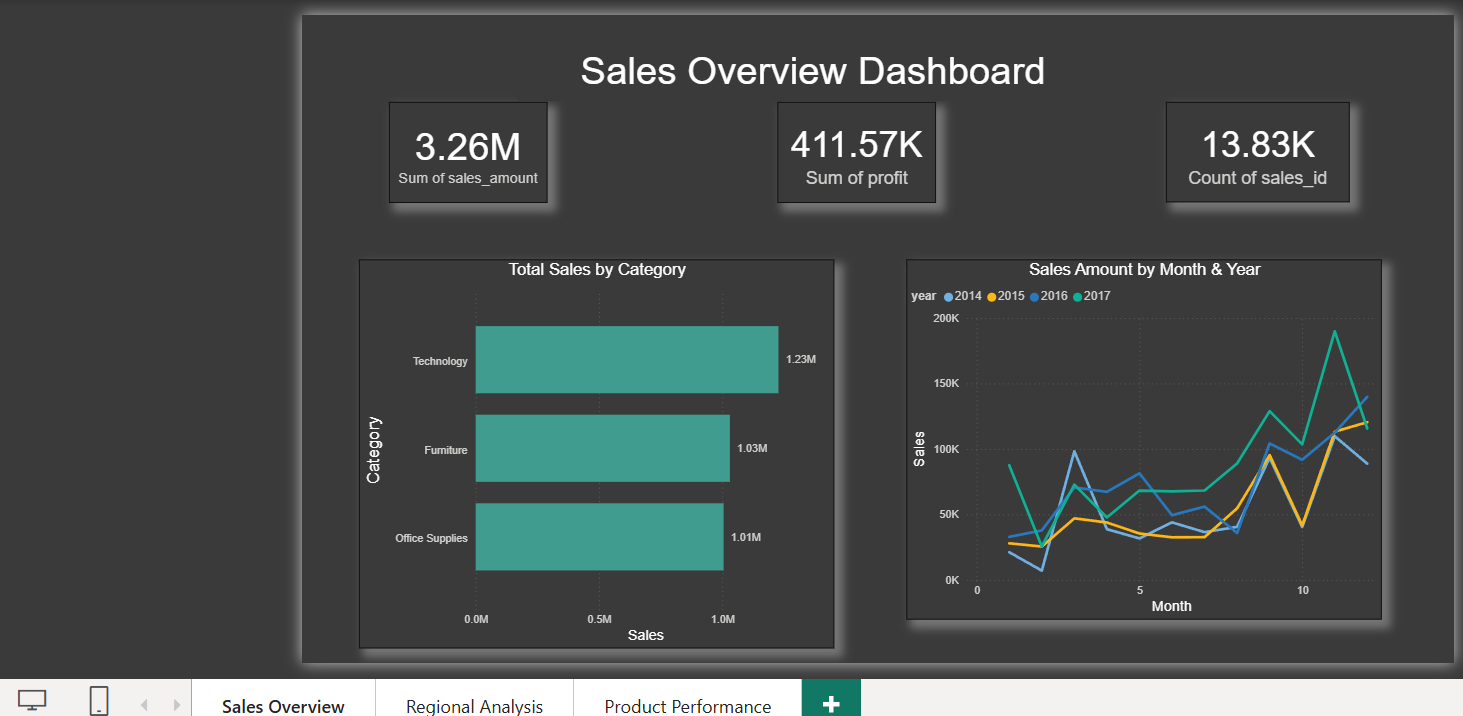

Layout of this report page (visuals, bound fields, positions):
{"tool":"powerbi","page":{"name":"Sales Overview","canvas":[1280,720],"ordinal":0},"visuals":[{"type":"card","fields":{"Values":["Sum(fact_sales.sales_amount)"]},"box":[96,96,176,112],"z":0},{"type":"card","fields":{"Values":["Sum(fact_sales.profit)"]},"box":[528,96,176,112],"z":1000},{"type":"card","fields":{"Values":["CountNonNull(fact_sales.sales_id)"]},"box":[960,96.4,204.1,111.5],"z":2000},{"type":"clusteredBarChart","title":"Total Sales by Category","fields":{"Y":["Sum(fact_sales.sales_amount)"],"Category":["dim_product.category"]},"box":[64,272,528,432],"z":3000},{"type":"lineChart","title":"Sales Amount by Month & Year","fields":{"Category":["dim_date.month"],"Y":["Sum(fact_sales.sales_amount)"],"Series":["dim_date.year"]},"box":[672,272,528,400],"z":4000},{"type":"textbox","box":[240,32,656,64],"z":5000}]}

Visuals, with their boxes on the page's 1280x720 design canvas (x1, y1, x2, y2). These are canvas units, not pixel positions in the 1463x716 screenshot, which may show the page scaled, cropped or inside an application window:
card - Sum(fact_sales.sales_amount): rect(96, 96, 272, 208)
card - Sum(fact_sales.profit): rect(528, 96, 704, 208)
card - CountNonNull(fact_sales.sales_id): rect(960, 96, 1164, 208)
"Total Sales by Category" clusteredBarChart: rect(64, 272, 592, 704)
"Sales Amount by Month & Year" lineChart: rect(672, 272, 1200, 672)
textbox: rect(240, 32, 896, 96)
